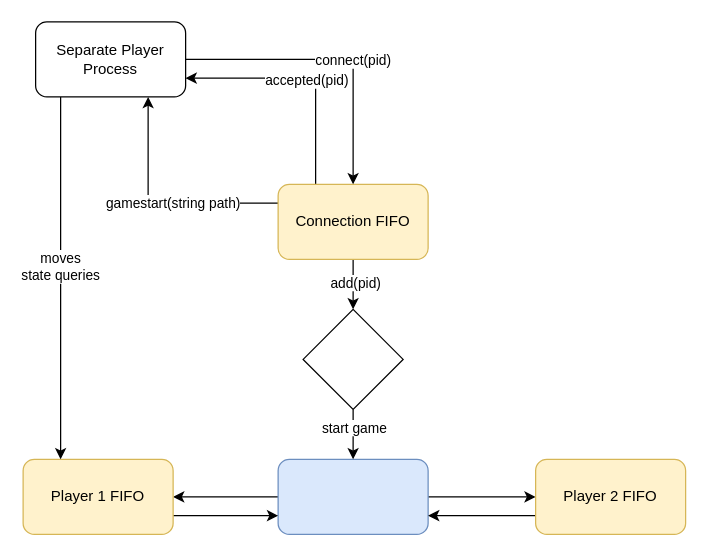
The diagram is 709 pixels wide and 556 high, and some of its shapes have lost their labels. Here are the shapes that lost their labels. From the top down, the box of each, then its label:
(302, 308, 403, 409): Waiting Queue
(277, 458, 428, 534): Abalone Game
